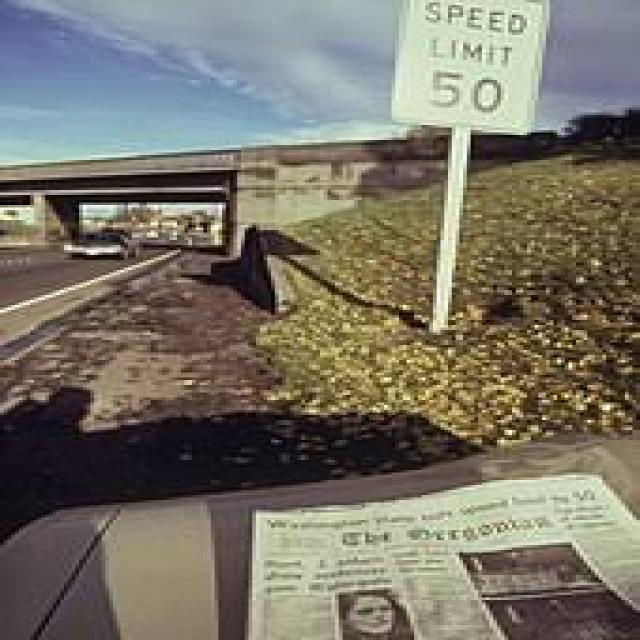speedLimit50: (392, 2, 550, 122)
